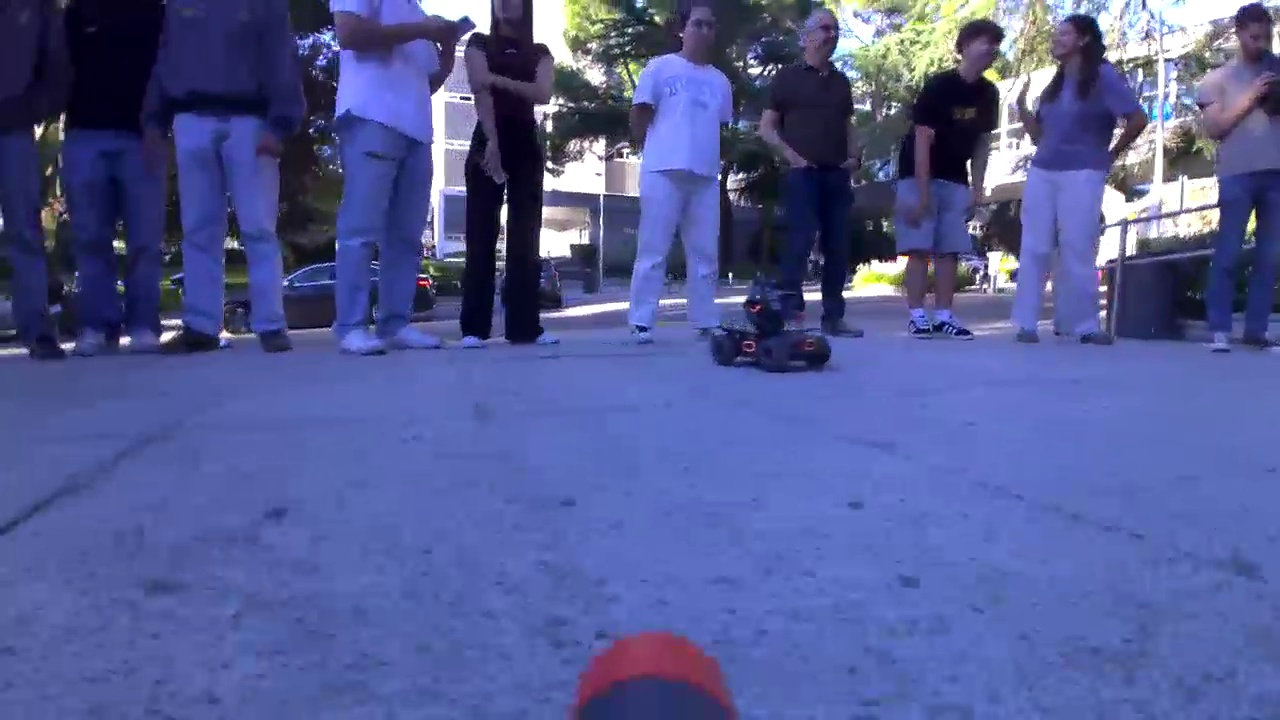robot: (716, 281, 837, 380)
